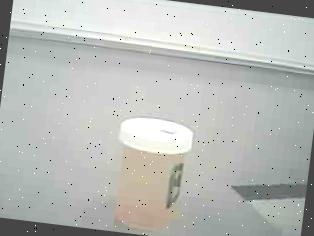Bottle B: (95, 107, 210, 236)
